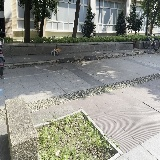fire: (56, 48, 61, 52)
